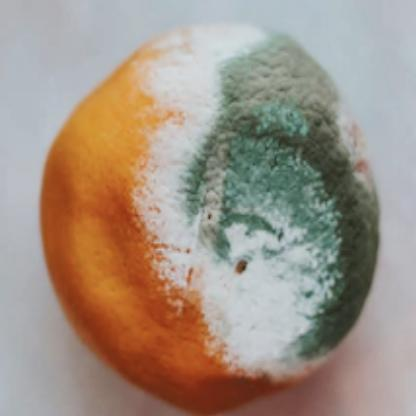rotten: (40, 19, 381, 416)
